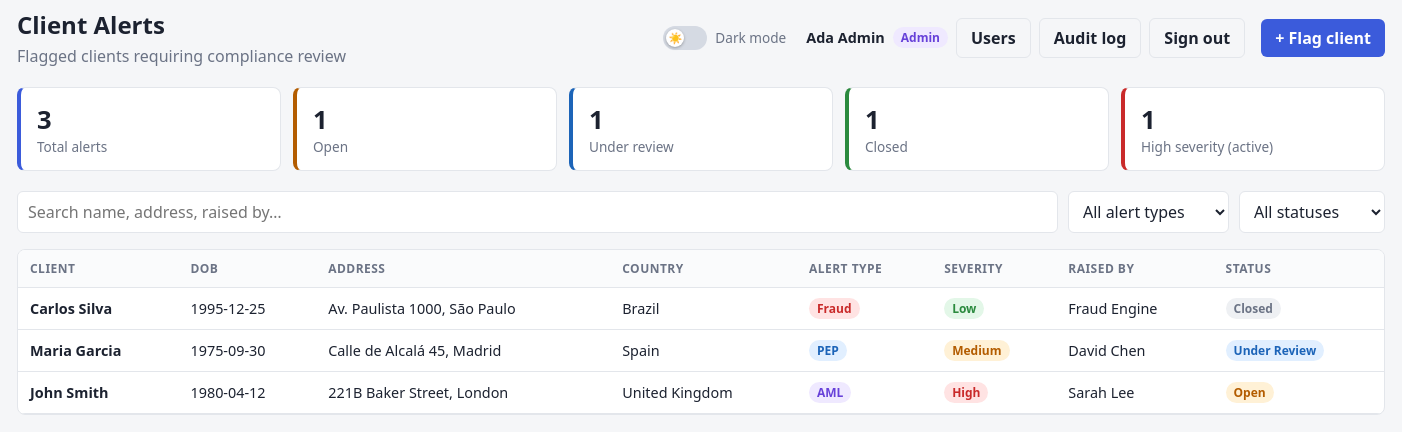
Test case: filtering › debounces search and fetches only the list (not stats/meta)
Check: the text "John Smith" is shown, box [18,372,178,414]
Type "chen" into the field named "Search alerts" at (538, 212), box [17,191,1058,233]
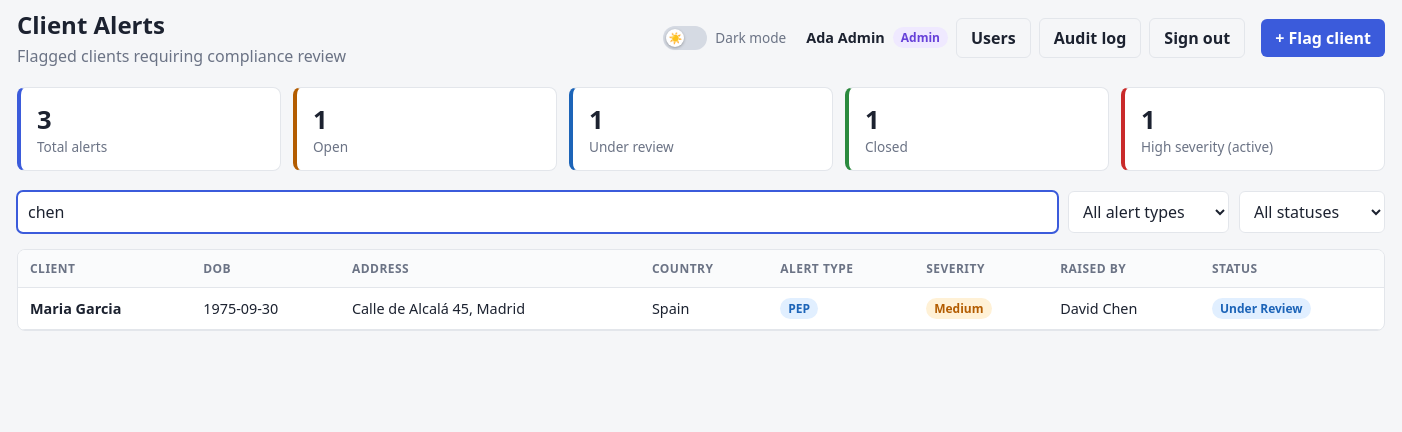
Check: the row "Maria Garcia" is shown, box [18,288,1384,330]
Check: the cell "John Smith" is gone
